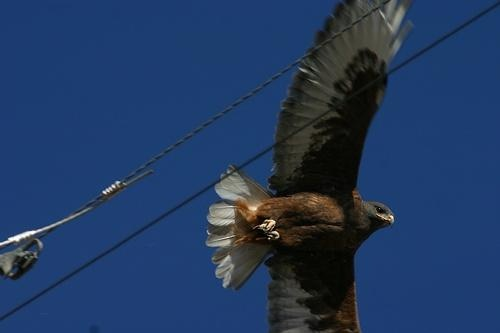bird: (211, 3, 408, 331)
